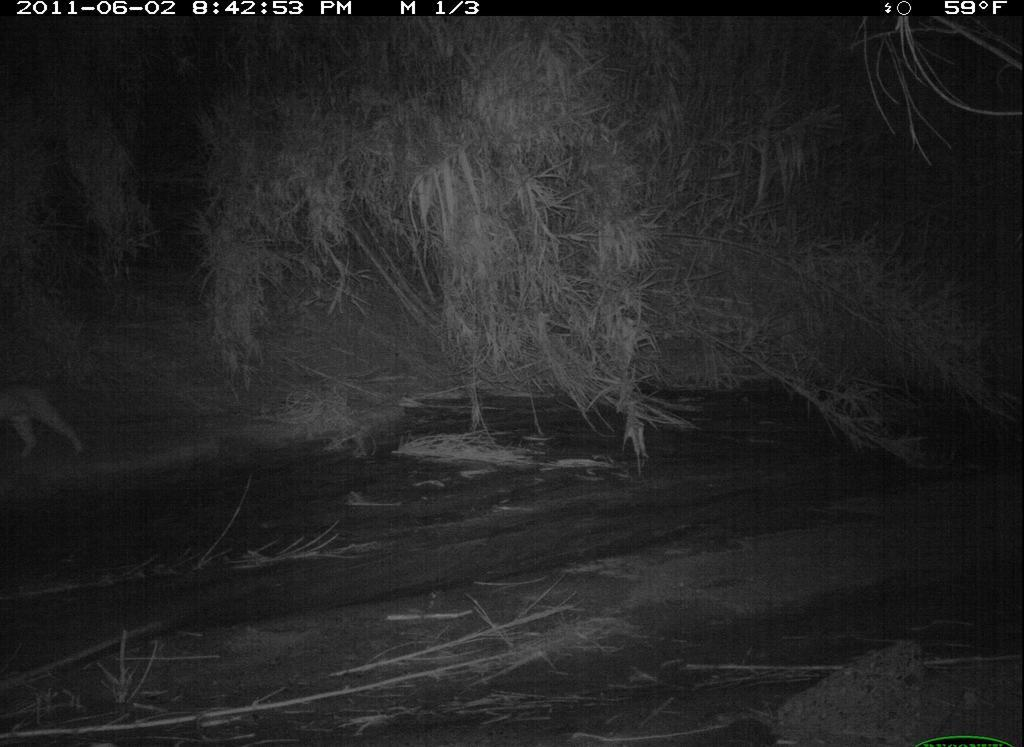bobcat: (3, 364, 100, 463)
